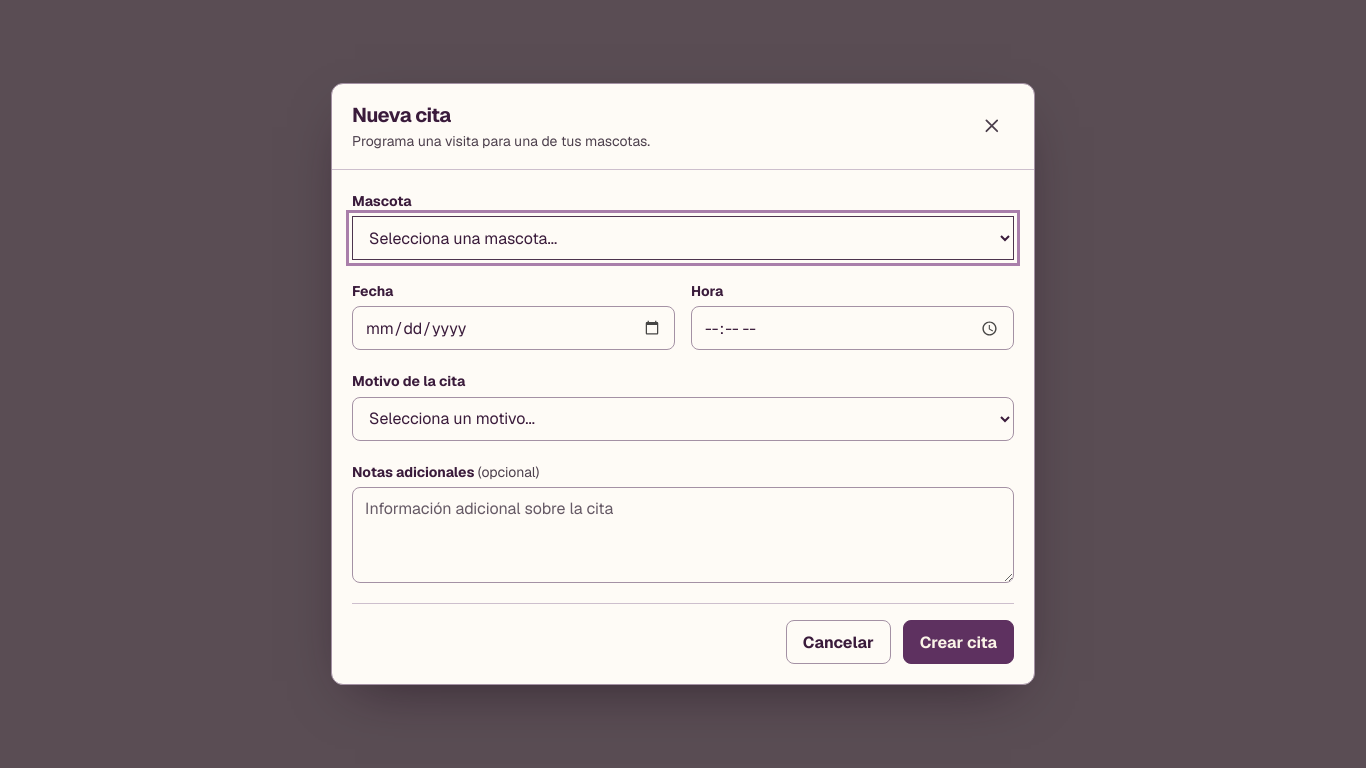
Test: AppointmentModal › exposes a named dialog, associated fields and accessible validation
Check: the dialog "Nueva cita" is shown, box [331,83,1035,685]
Check: the dropdown labelled "Motivo de la cita" is shown, box [352,397,1014,441]
What coordinates should you click on to do the following:
click the button "Crear cita"
I would click on:
 (958, 642)
Its box is [903,620,1014,664].
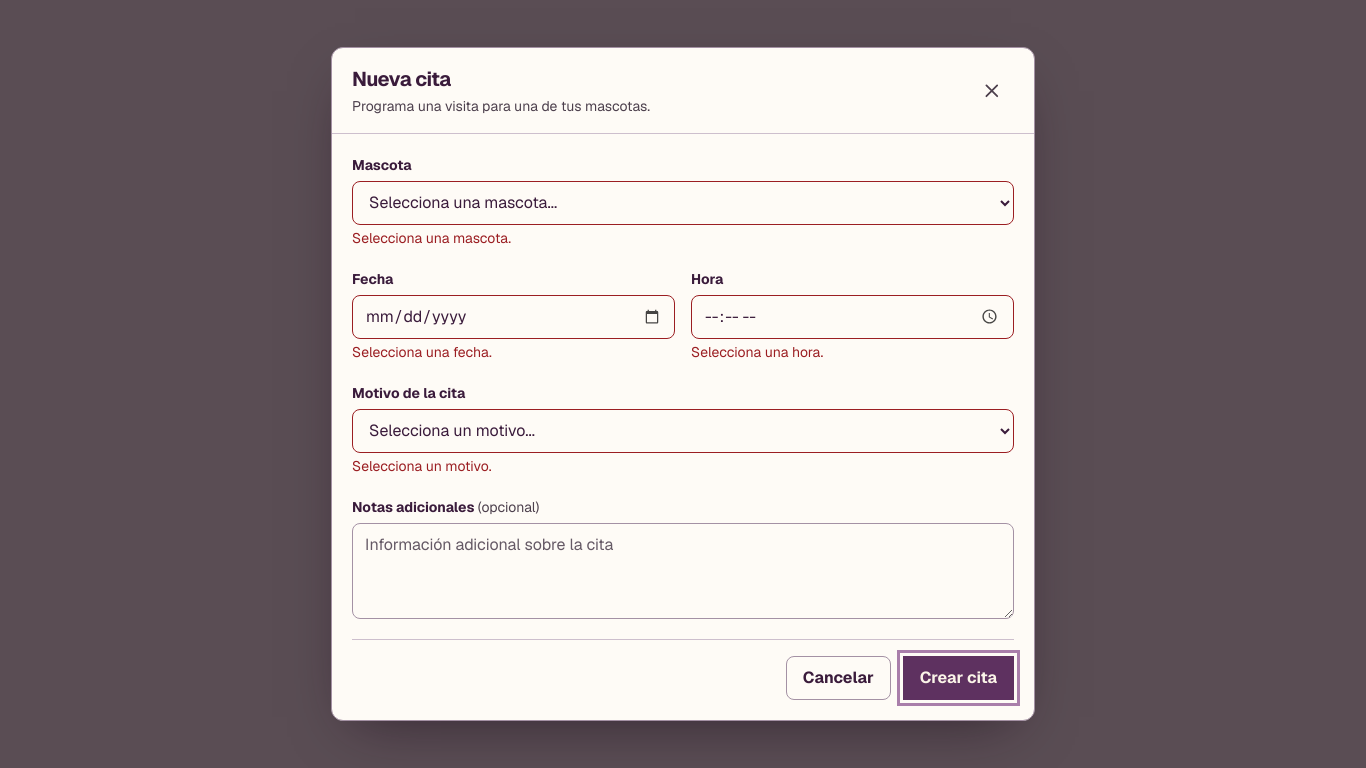
Check: the text "Selecciona una mascota." is shown, box [352,229,511,247]
